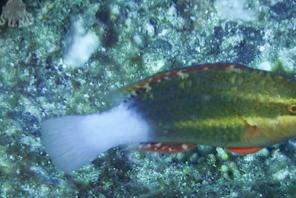Scaridae -Parrotfishes-: (35, 57, 296, 173)
